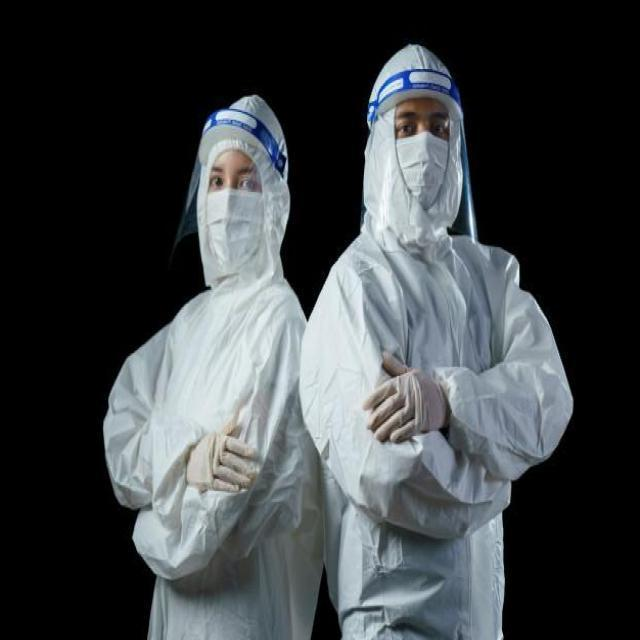gloves: (363, 348, 448, 446), (181, 433, 261, 491)
